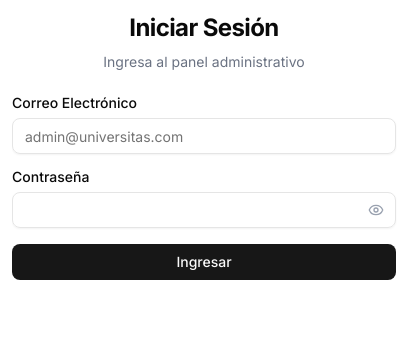
Test: LoginForm Component › debe mostrar validación si se envía vacío
This screenshot has width=416, height=345.
Click the button "Ingresar".
click(204, 262)  # box top-left (12, 244), bottom-right (396, 280)
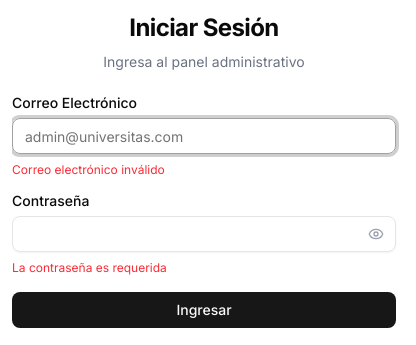
expect the text "Correo electrónico inválido" is shown: met, box top-left (12, 162), bottom-right (165, 177)
expect the text "La contraseña es requerida" is shown: met, box top-left (12, 260), bottom-right (167, 275)
